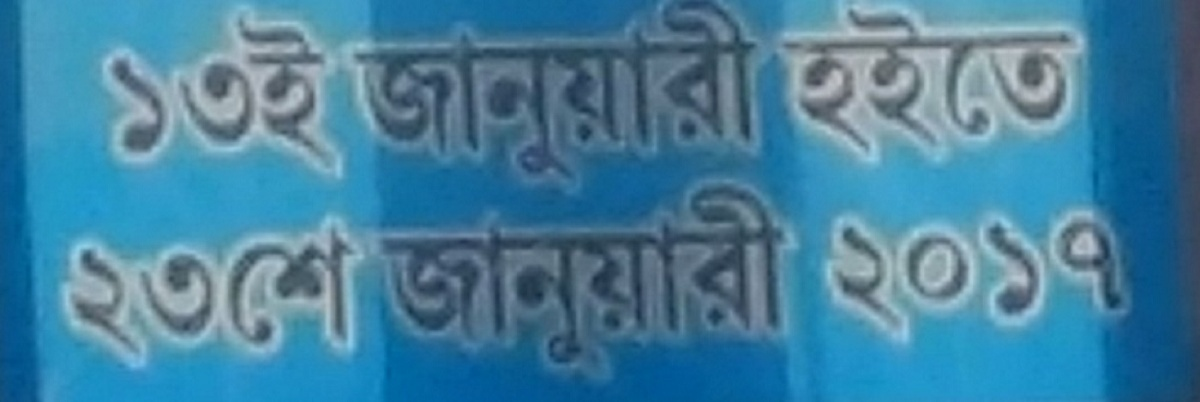text: (385, 175, 400, 391), (401, 175, 416, 391), (417, 175, 432, 391), (433, 175, 448, 391), (449, 175, 464, 391), (465, 175, 480, 391), (481, 175, 496, 391), (497, 175, 512, 391), (513, 175, 528, 391), (529, 175, 544, 391), (545, 175, 560, 391), (561, 175, 576, 391), (577, 175, 592, 391), (593, 175, 608, 391), (609, 175, 624, 391), (625, 175, 640, 391), (641, 175, 656, 391), (657, 175, 672, 391), (673, 175, 688, 391), (689, 175, 704, 391), (705, 175, 720, 391), (721, 175, 736, 391), (737, 175, 752, 391), (753, 175, 768, 391), (769, 175, 784, 391), (785, 175, 800, 391), (753, 1, 769, 202), (370, 175, 384, 391), (353, 1, 368, 202), (369, 1, 384, 202), (385, 1, 400, 202), (401, 1, 416, 202), (417, 1, 432, 202), (433, 1, 448, 202), (449, 1, 464, 202), (465, 1, 480, 202), (481, 1, 496, 202), (497, 1, 512, 202), (513, 1, 528, 202), (529, 1, 544, 202), (545, 1, 560, 202), (561, 1, 576, 202), (577, 1, 592, 202), (593, 1, 608, 202), (609, 1, 624, 202), (625, 1, 640, 202), (641, 1, 656, 202), (657, 1, 672, 202), (673, 1, 688, 202), (689, 1, 704, 202), (705, 1, 720, 202), (721, 1, 736, 202), (737, 1, 752, 202), (1073, 1, 1089, 178), (769, 1, 784, 178), (785, 1, 800, 178), (801, 1, 816, 178), (817, 1, 832, 178), (833, 1, 848, 178), (849, 1, 864, 178), (865, 1, 880, 178), (881, 1, 896, 178), (897, 1, 912, 178), (913, 1, 928, 178), (929, 1, 944, 178), (945, 1, 960, 178), (961, 1, 976, 178), (977, 1, 992, 178), (993, 1, 1008, 178), (1009, 1, 1024, 178), (1025, 1, 1040, 178), (1041, 1, 1056, 178), (1057, 1, 1072, 178), (97, 6, 112, 181), (113, 6, 128, 181), (129, 6, 144, 181), (145, 6, 160, 181), (161, 6, 176, 181), (177, 6, 192, 181), (193, 6, 208, 181), (209, 6, 224, 181), (225, 6, 240, 181), (241, 6, 256, 181), (257, 6, 272, 181), (273, 6, 288, 181), (289, 6, 304, 181), (305, 6, 320, 181), (321, 6, 336, 181), (353, 209, 369, 373), (339, 1, 352, 202), (65, 209, 80, 373), (81, 209, 96, 373), (97, 209, 112, 373), (113, 209, 128, 373), (129, 209, 144, 373), (145, 209, 160, 373), (161, 209, 176, 373), (177, 209, 192, 373), (193, 209, 208, 373), (209, 209, 224, 373), (225, 209, 240, 373), (241, 209, 256, 373), (257, 209, 272, 373), (273, 209, 288, 373), (289, 209, 304, 373), (305, 209, 320, 373), (321, 209, 336, 373), (337, 209, 352, 373), (1121, 205, 1137, 354), (817, 205, 832, 354), (833, 205, 848, 354), (849, 205, 864, 354), (865, 205, 880, 354), (881, 205, 896, 354), (897, 205, 912, 354), (913, 205, 928, 354), (929, 205, 944, 354), (945, 205, 960, 354), (961, 205, 976, 354), (977, 205, 992, 354), (993, 205, 1008, 354), (1009, 205, 1024, 354), (1025, 205, 1040, 354), (1041, 205, 1056, 354), (1057, 205, 1072, 354), (1073, 205, 1088, 354), (1089, 205, 1104, 354), (1105, 205, 1120, 354), (337, 6, 346, 181), (801, 175, 808, 391), (57, 209, 64, 373)
